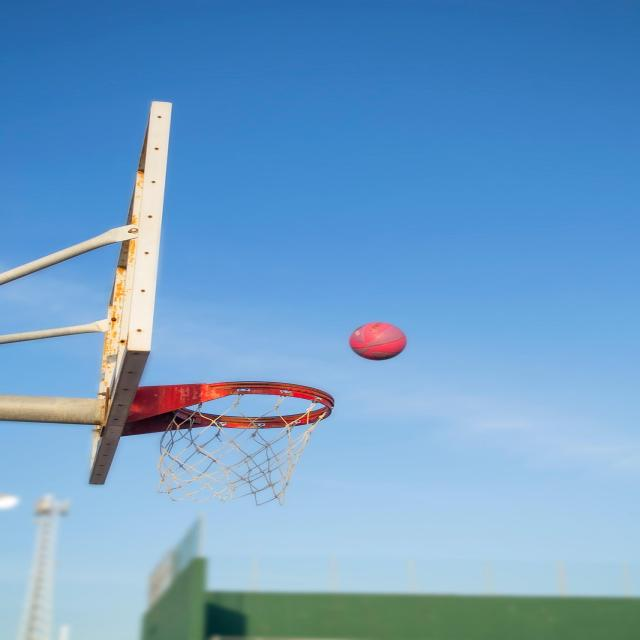Basketball: (350, 324, 407, 361)
